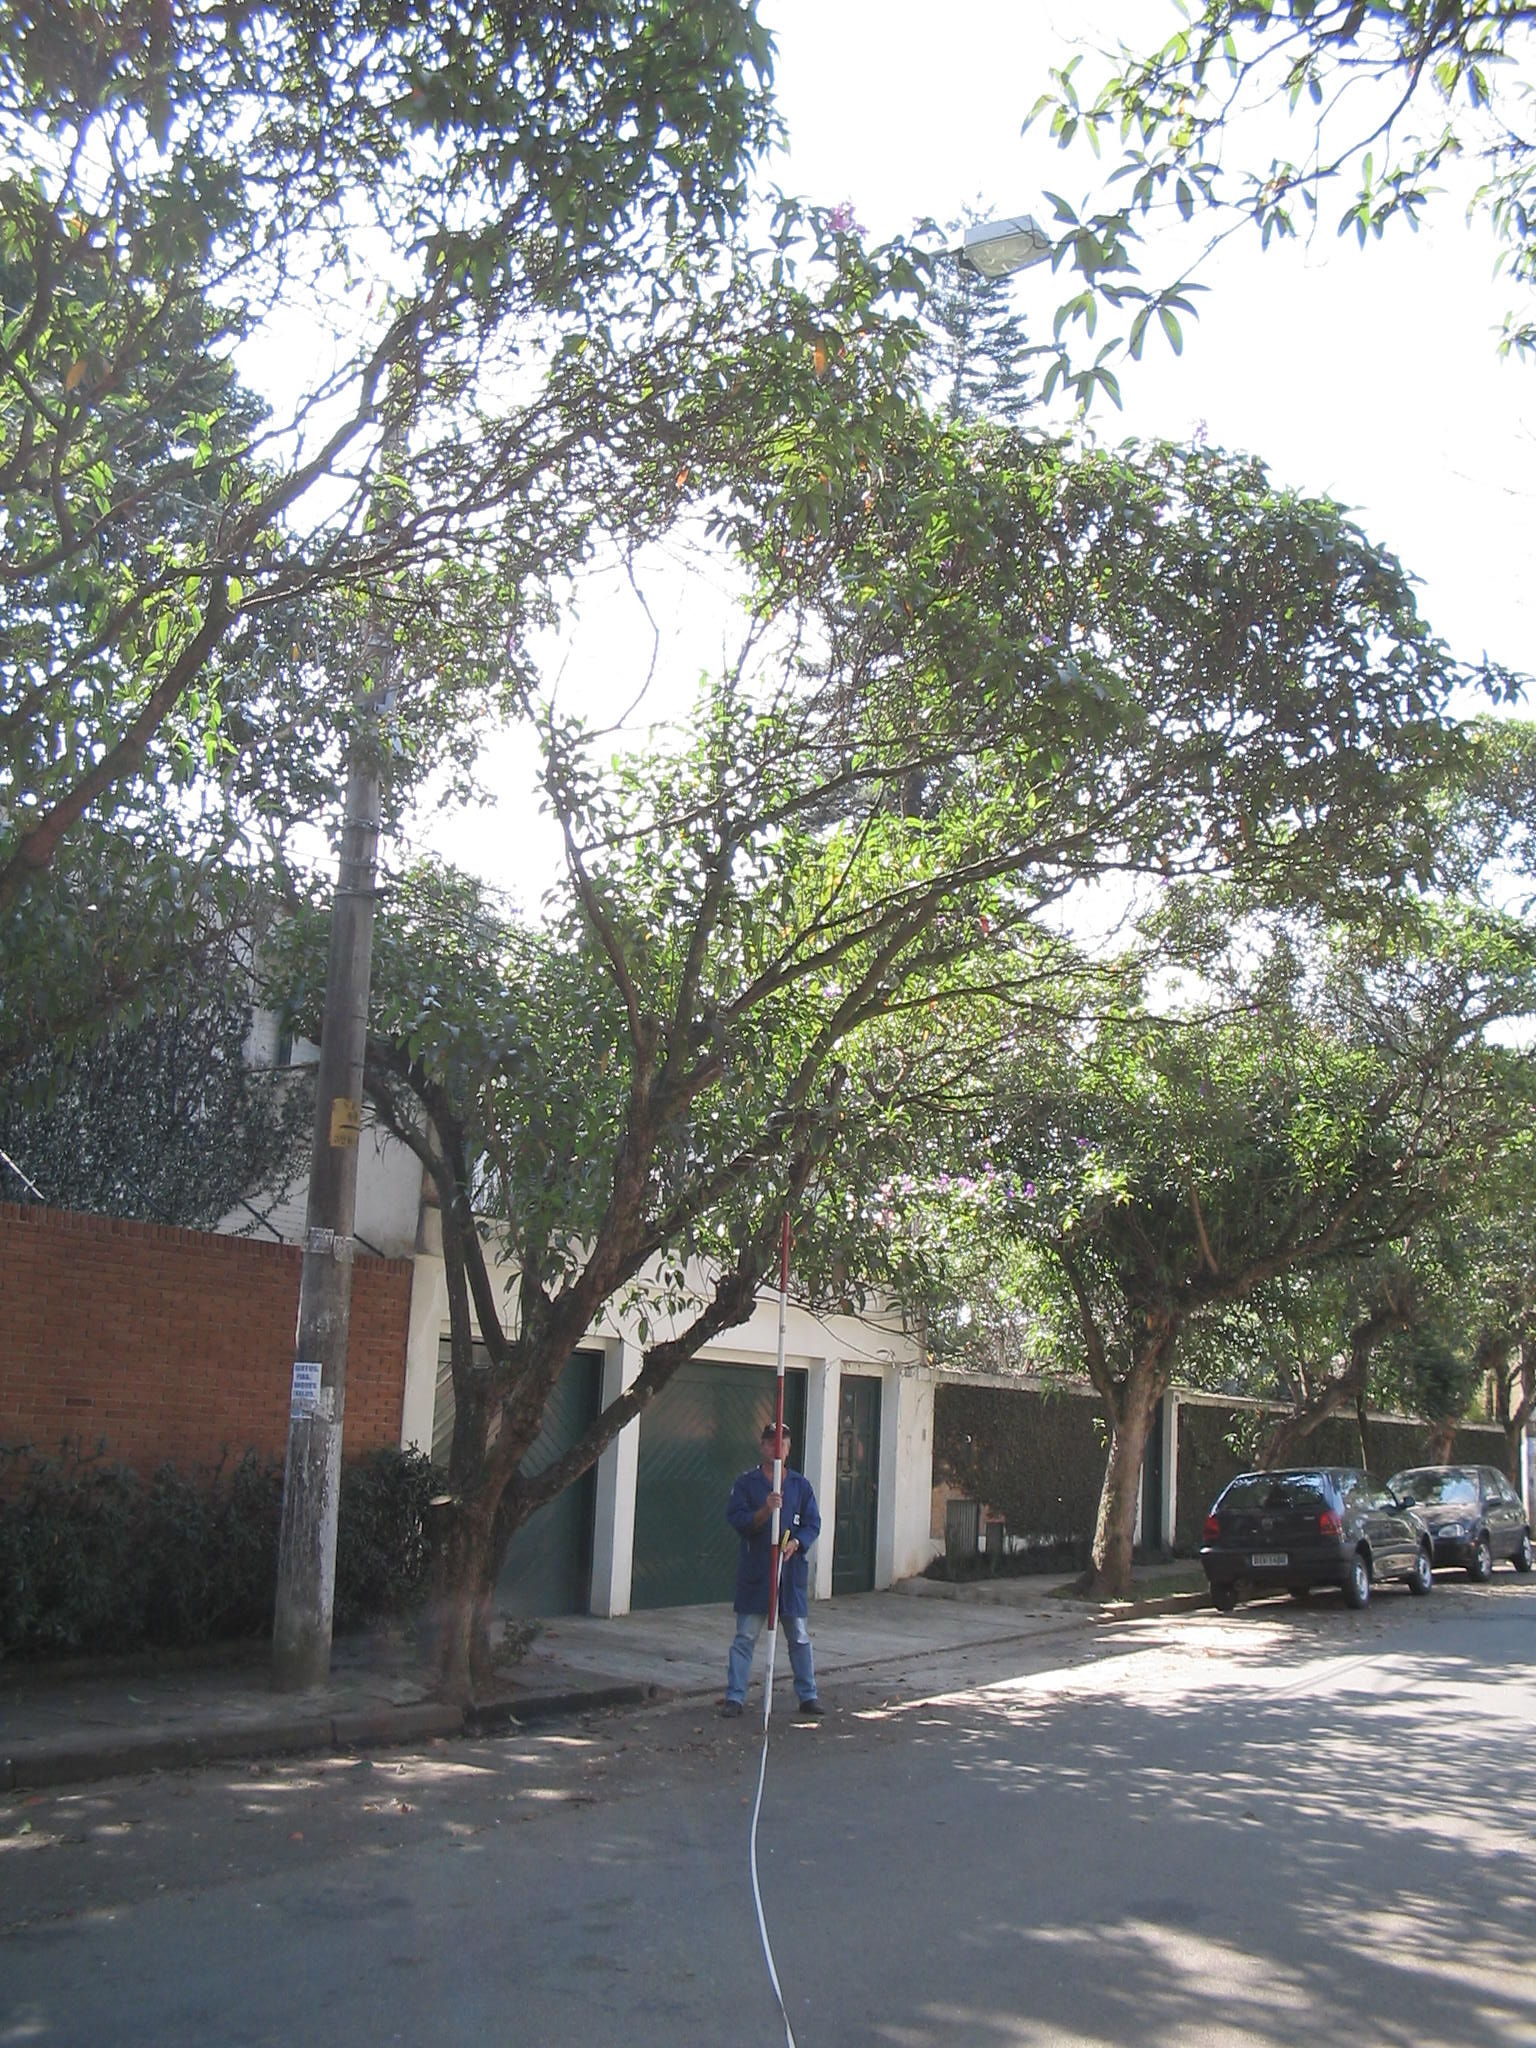crown: (177, 274, 1526, 961), (942, 918, 1525, 1332)
stem: (394, 1496, 557, 1700), (1070, 1426, 1167, 1592)
stick: (747, 1216, 800, 1729)
tree: (173, 266, 1533, 1700), (937, 911, 1533, 1592)
